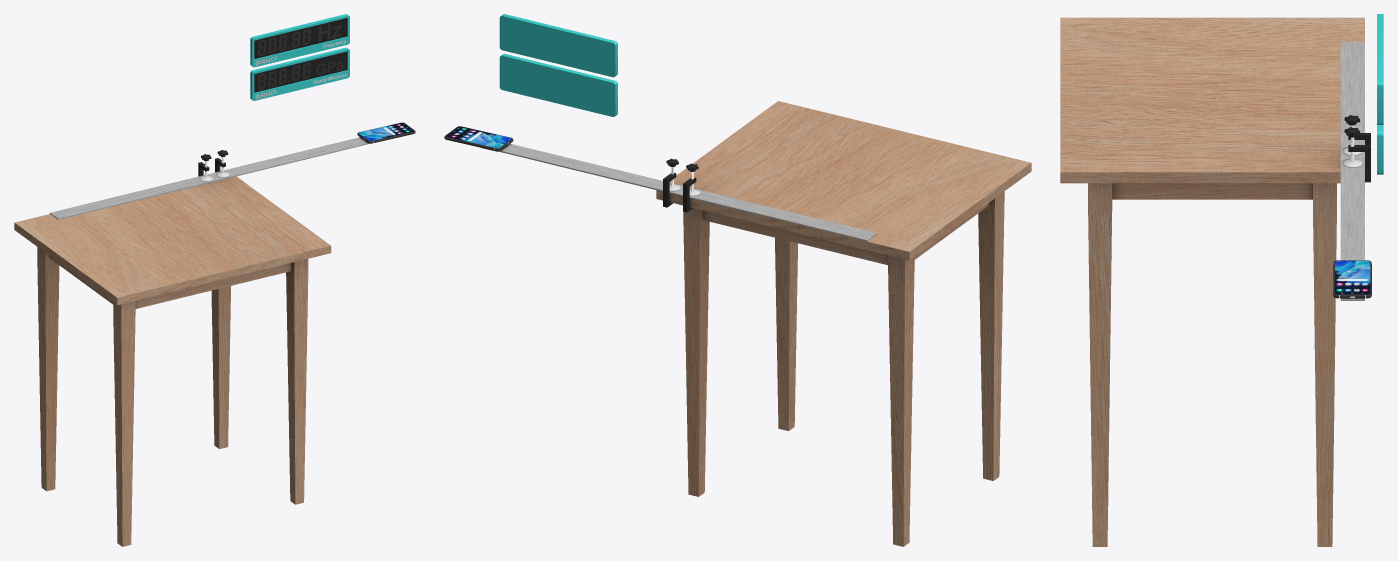
The model's file is Aluminum_bar_50cm_50cm.glb.
The picture shows the model from 3 angles, left to right: view 1: azimuth 30°, elevation 25°; view 2: azimuth 150°, elevation 25°; view 3: azimuth 270°, elevation 25°; orthographic projection. The views are drawn at different scales.
Parts seen in each view (by area): view 1: MESA, PASAMANO-ALUMINIO_50_50, CAJA DISPLAY GPa, CAJA DISPLAY Hz, SMARTPHONE_50_50; view 2: MESA, CAJA DISPLAY Hz, CAJA DISPLAY GPa, PASAMANO-ALUMINIO_50_50, SMARTPHONE_50_50; view 3: MESA, PASAMANO-ALUMINIO_50_50, SMARTPHONE_50_50, CAJA DISPLAY Hz.
Boxes of the visible parts, x1,y1,x2,y2 form: MESA: (14,176,331,546); PASAMANO-ALUMINIO_50_50: (50,137,369,219); CAJA DISPLAY GPa: (250,47,349,100); CAJA DISPLAY Hz: (250,14,349,67); SMARTPHONE_50_50: (357,122,415,143); MESA: (656,101,1031,546); CAJA DISPLAY Hz: (499,14,617,77); CAJA DISPLAY GPa: (499,53,617,116); PASAMANO-ALUMINIO_50_50: (499,143,877,241); SMARTPHONE_50_50: (444,126,513,151); MESA: (1060,17,1364,546); PASAMANO-ALUMINIO_50_50: (1340,41,1364,300); SMARTPHONE_50_50: (1333,260,1371,298); CAJA DISPLAY Hz: (1377,14,1383,124).
Bounding box in the file's own units: 1.1 × 1.03 × 0.531.
94 materials, 5 textured.
